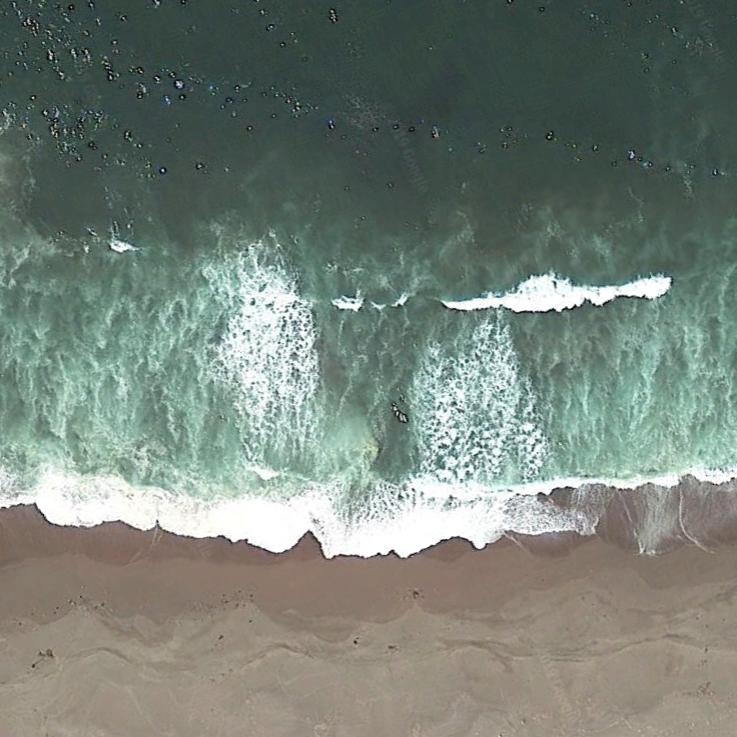rip_current: (257, 201, 464, 508)
